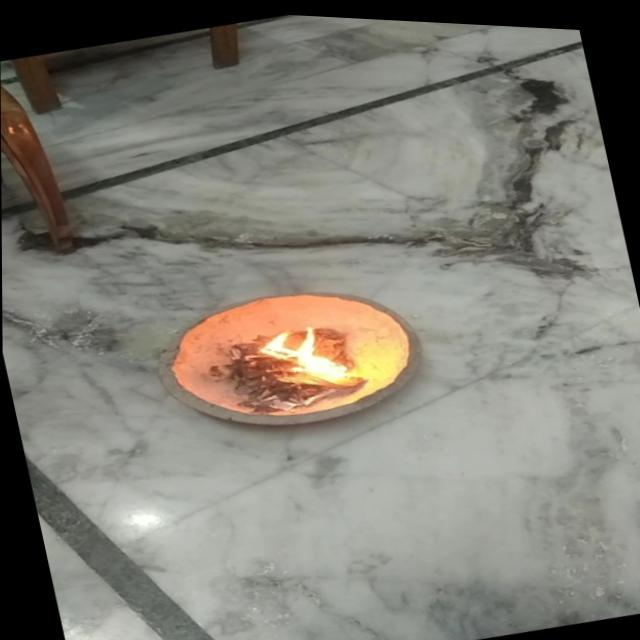fire: (250, 312, 362, 396)
